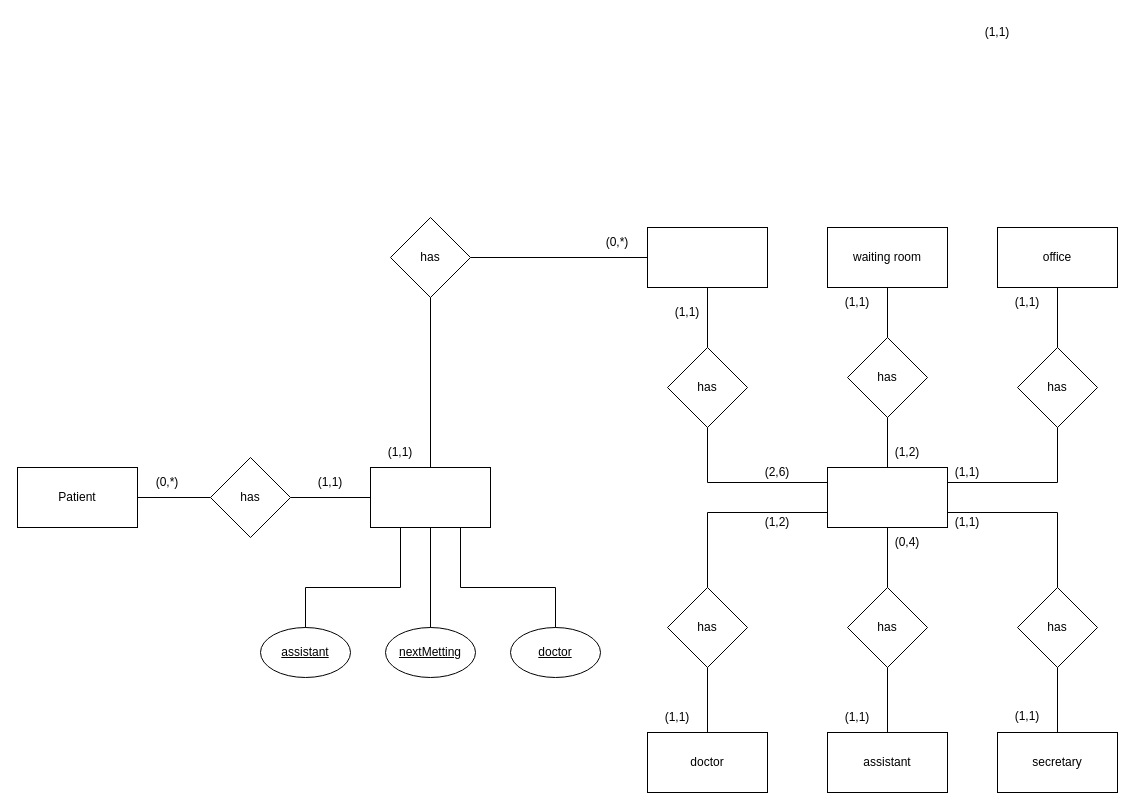
Some shapes in this 1135 by 811 pixel diagram are drawn without their labels. The shapes that lost their labels are listed below. From the top down, each one's box as (x1, y1, x2, y2) in pixels, then its label:
(646, 226, 768, 288): treatment room
(370, 466, 490, 528): meeting
(826, 466, 948, 528): Doctor Office
